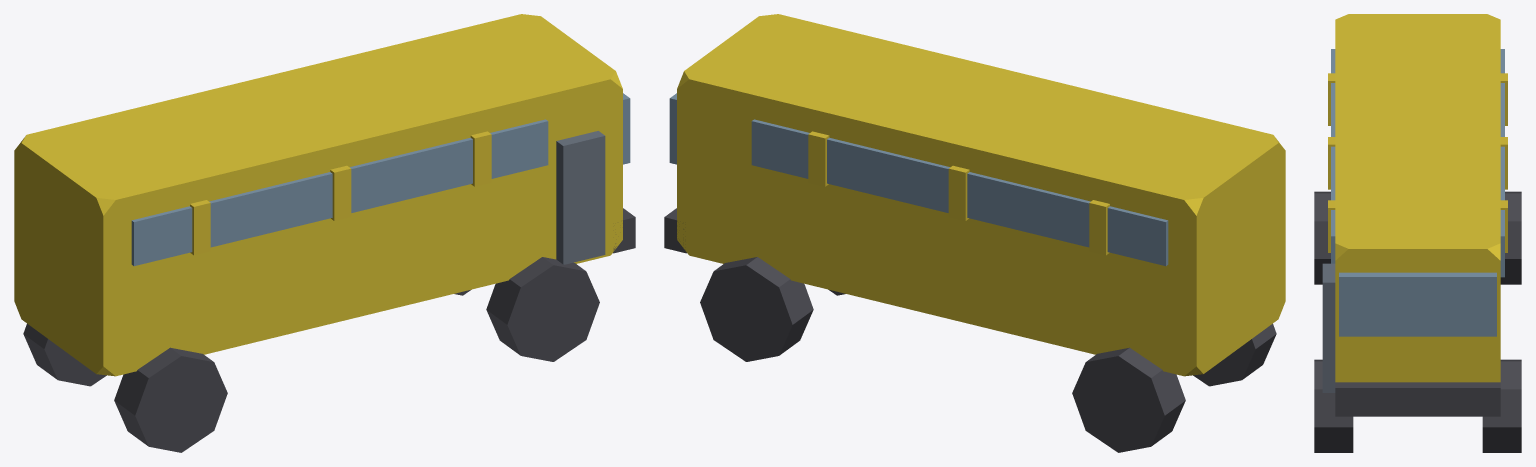
The picture shows the model from 3 angles, left to right: view 1: azimuth 30°, elevation 25°; view 2: azimuth 150°, elevation 25°; view 3: azimuth 270°, elevation 25°; orthographic projection. The views are drawn at different scales.
Parts seen in each view (by area): view 1: part0, part1, part11, part9, part6, part10, part3, part4, part2; view 2: part0, part1, part8, part10, part11, part3, part4, part2; view 3: part0, part5, part7, part8, part9, part1, part6, part10, part11, part2, part3, part4.
Boxes of the visible parts, x1,y1,x2,y2 form: part0: [14, 14, 622, 376]; part1: [131, 119, 548, 266]; part11: [114, 347, 227, 452]; part9: [486, 257, 599, 361]; part6: [556, 131, 605, 264]; part10: [23, 323, 106, 386]; part3: [330, 165, 351, 220]; part4: [470, 131, 491, 186]; part2: [190, 200, 210, 255]; part0: [677, 14, 1285, 376]; part1: [751, 119, 1168, 266]; part8: [700, 257, 813, 361]; part10: [1072, 347, 1185, 452]; part11: [1193, 323, 1276, 386]; part3: [948, 165, 969, 220]; part4: [808, 131, 829, 186]; part2: [1089, 200, 1109, 255]; part0: [1335, 14, 1500, 382]; part5: [1339, 272, 1496, 336]; part7: [1335, 382, 1500, 416]; part8: [1482, 359, 1521, 452]; part9: [1314, 359, 1353, 452]; part1: [1331, 49, 1504, 277]; part6: [1322, 263, 1335, 392]; part10: [1500, 191, 1521, 284]; part11: [1314, 191, 1330, 284]; part2: [1328, 73, 1507, 125]; part3: [1328, 137, 1507, 189]; part4: [1328, 200, 1507, 252].
Size of the model in its own units: 7.58 by 3.51 by 2.76.
